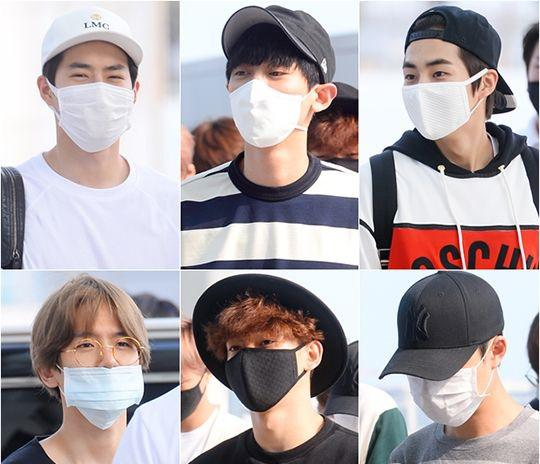OK: (222, 313, 318, 409), (226, 48, 308, 141), (406, 334, 482, 426), (57, 57, 140, 140), (400, 57, 480, 137)
WRONG: (61, 324, 151, 414)
